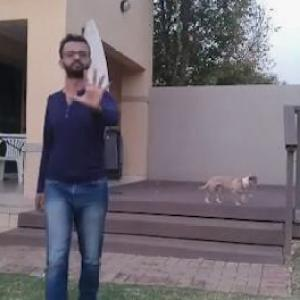follow_hand: (70, 60, 116, 113)
